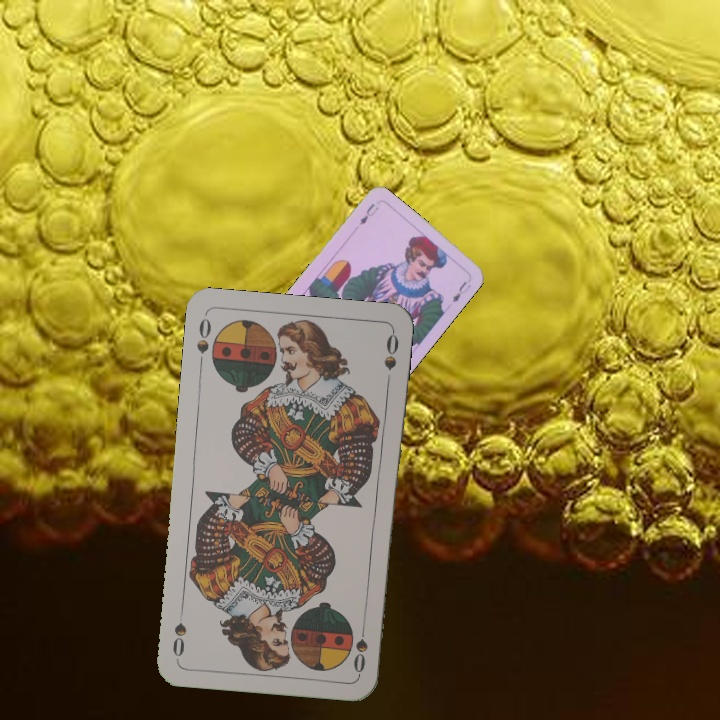EU: (355, 199, 381, 228)
SO: (349, 616, 370, 676), (192, 314, 214, 371)
